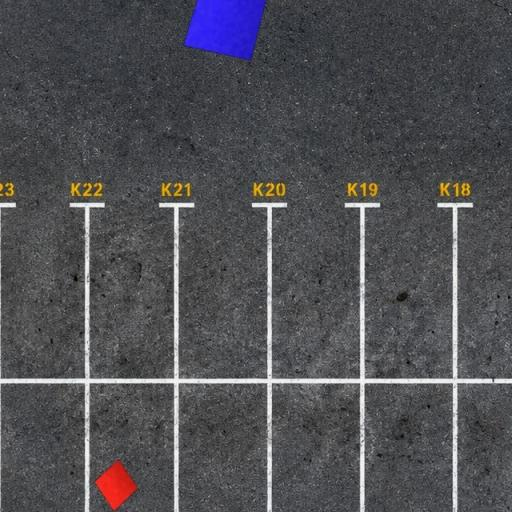BLUE_SQUARE: (182, 0, 268, 62)
RED_SQUARE: (94, 458, 138, 512)
